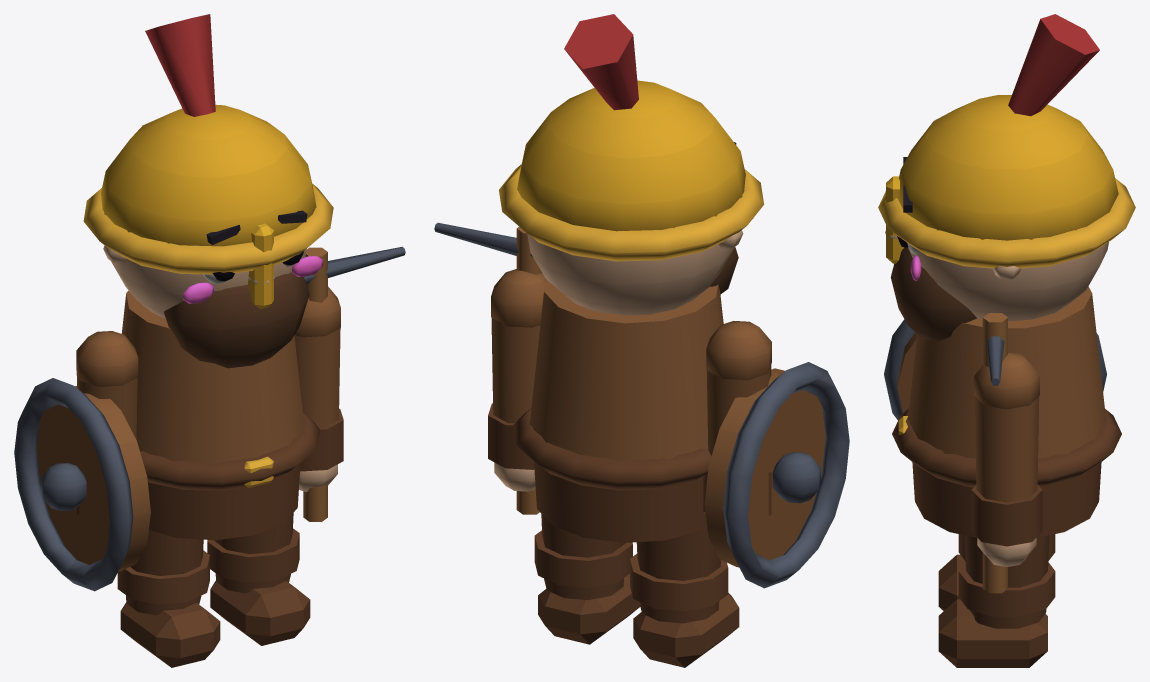
Rendered from hero_garn.glb.
3 views of the same model, side by side, from view 1: azimuth 30°, elevation 25°; view 2: azimuth 150°, elevation 25°; view 3: azimuth 270°, elevation 25° (orthographic). The views are drawn at different scales.
Parts seen in each view (by area): view 1: body_t0_palette, arml_t0_palette, legl_t0_palette, armr_t0_palette, legr_t0_palette; view 2: body_t0_palette, arml_t0_palette, armr_t0_palette, legl_t0_palette, legr_t0_palette; view 3: body_t0_palette, armr_t0_palette, legr_t0_palette, arml_t0_palette, legl_t0_palette.
Boxes of the visible parts, x1,y1,x2,y2 form: body_t0_palette: (83, 14, 333, 540); arml_t0_palette: (14, 331, 150, 591); legl_t0_palette: (117, 530, 220, 667); armr_t0_palette: (294, 246, 405, 521); legr_t0_palette: (207, 513, 310, 645); body_t0_palette: (499, 14, 763, 542); arml_t0_palette: (703, 321, 849, 588); armr_t0_palette: (434, 222, 546, 514); legl_t0_palette: (630, 512, 739, 667); legr_t0_palette: (534, 514, 640, 644); body_t0_palette: (878, 14, 1135, 537); armr_t0_palette: (971, 312, 1042, 593); legr_t0_palette: (938, 535, 1055, 667); arml_t0_palette: (884, 319, 1106, 420); legl_t0_palette: (938, 534, 1055, 610).
Bounding box in the file's own units: 0.3689 × 0.5929 × 0.224.
